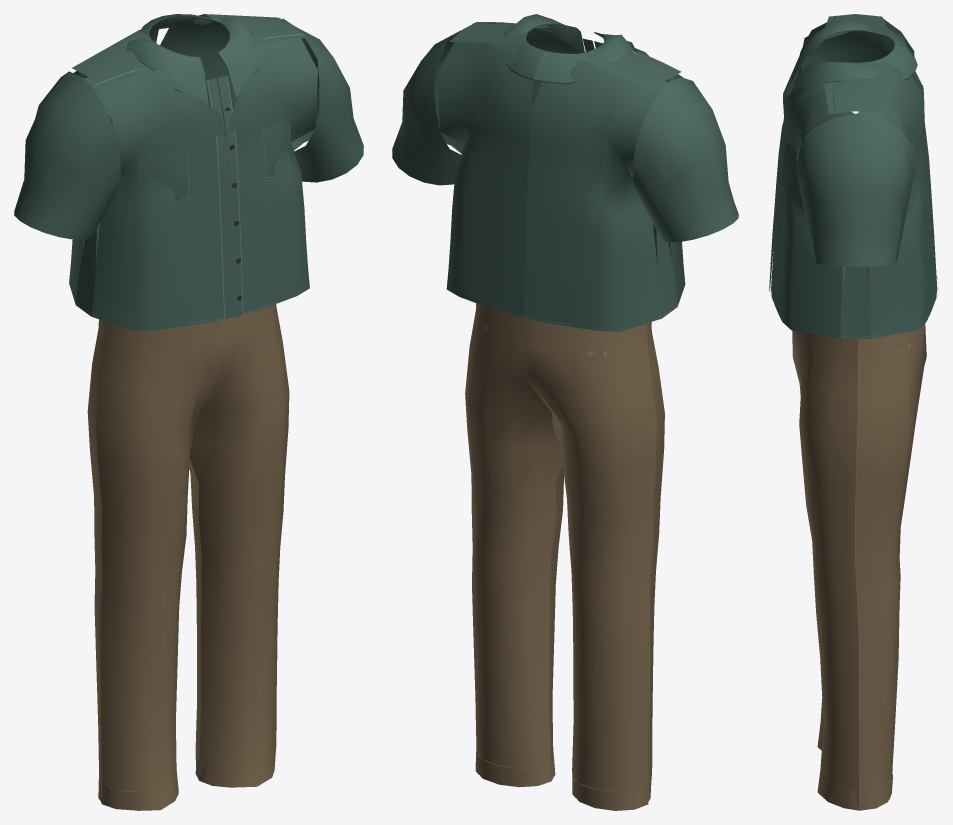
The model's file is everyday-01-envelope-v1.glb.
3 views of the same model, side by side, from view 1: azimuth 30°, elevation 25°; view 2: azimuth 150°, elevation 25°; view 3: azimuth 270°, elevation 25° (orthographic). The views are drawn at different scales.
Visible parts, largest first — view 1: ENVELOPE_everyday_01_unrigged; view 2: ENVELOPE_everyday_01_unrigged; view 3: ENVELOPE_everyday_01_unrigged.
Boxes of the visible parts, x1,y1,x2,y2 form: ENVELOPE_everyday_01_unrigged: (14, 14, 363, 810); ENVELOPE_everyday_01_unrigged: (392, 14, 738, 810); ENVELOPE_everyday_01_unrigged: (769, 14, 938, 810).
Size of the model in its own units: 0.63 by 1.35 by 0.287.
